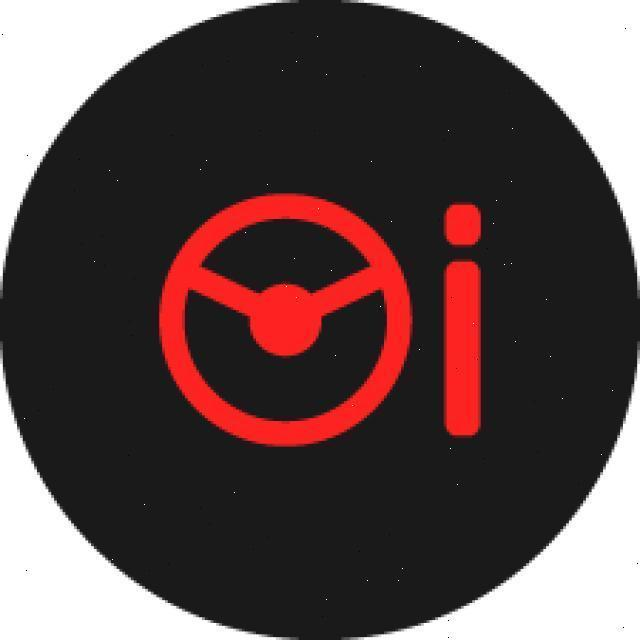Electronic Power Steering Warning: (156, 192, 482, 448)
